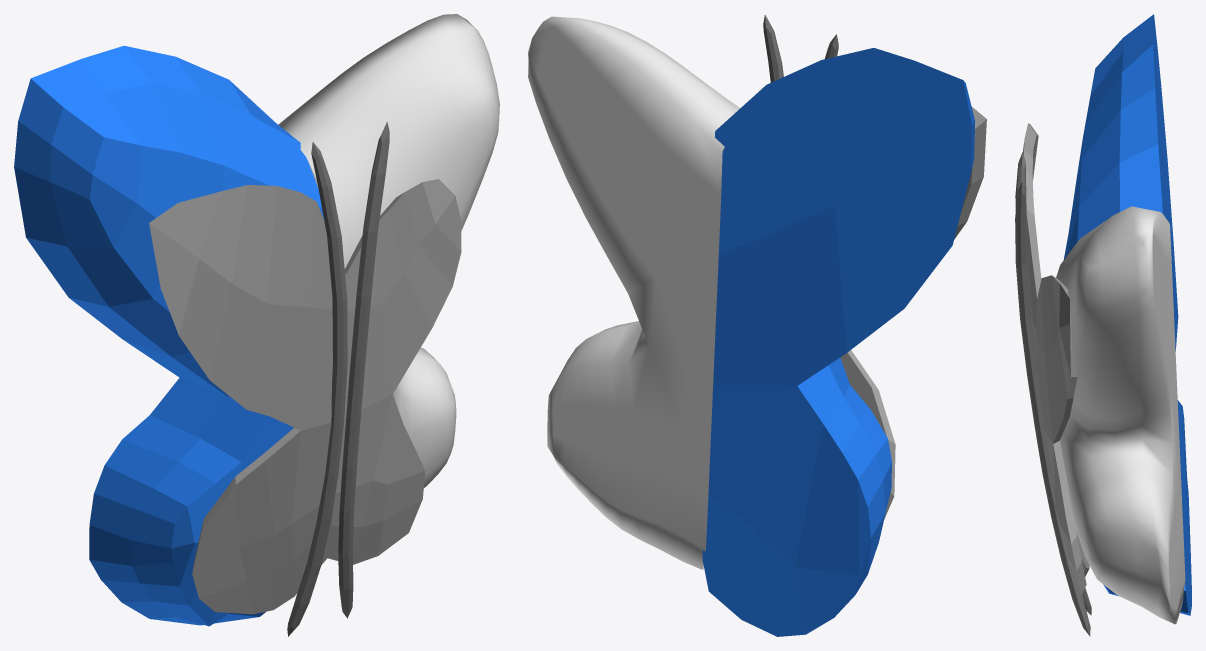
3 views of the same model, side by side, from view 1: azimuth 30°, elevation 25°; view 2: azimuth 150°, elevation 25°; view 3: azimuth 270°, elevation 25° (orthographic). The views are drawn at different scales.
Parts seen in each view (by area): view 1: shadeBlue, shadeGrey, shadeWhite, shadeDarkGrey; view 2: shadeBlue, shadeWhite, shadeGrey, shadeDarkGrey; view 3: shadeWhite, shadeBlue, shadeGrey, shadeDarkGrey.
Boxes of the visible parts, x1,y1,x2,y2 form: shadeBlue: (14, 45, 323, 626); shadeGrey: (149, 179, 461, 614); shadeWhite: (278, 14, 499, 488); shadeDarkGrey: (287, 122, 389, 636); shadeBlue: (702, 48, 975, 636); shadeWhite: (528, 16, 740, 569); shadeGrey: (840, 106, 986, 519); shadeDarkGrey: (763, 14, 838, 82); shadeWhite: (1056, 206, 1185, 624); shadeBlue: (1063, 14, 1191, 615); shadeGrey: (1023, 123, 1089, 595); shadeDarkGrey: (1015, 152, 1091, 636).
Bounding box in the file's own units: 10.88 × 13.64 × 4.13.
